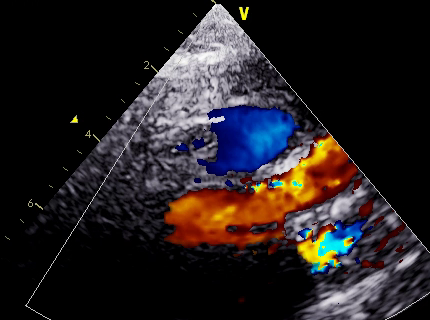AR: (171, 183, 294, 250)
